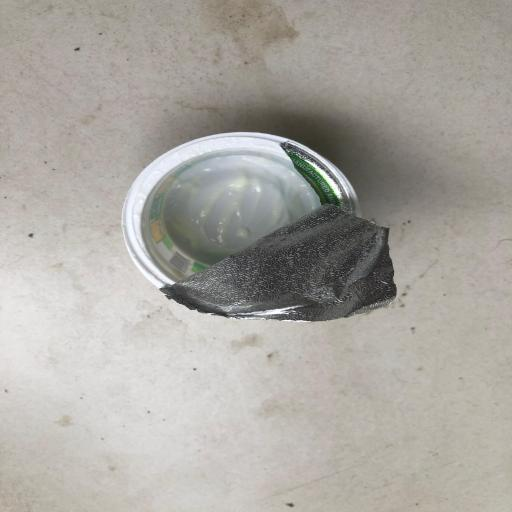waste: (96, 118, 412, 350)
